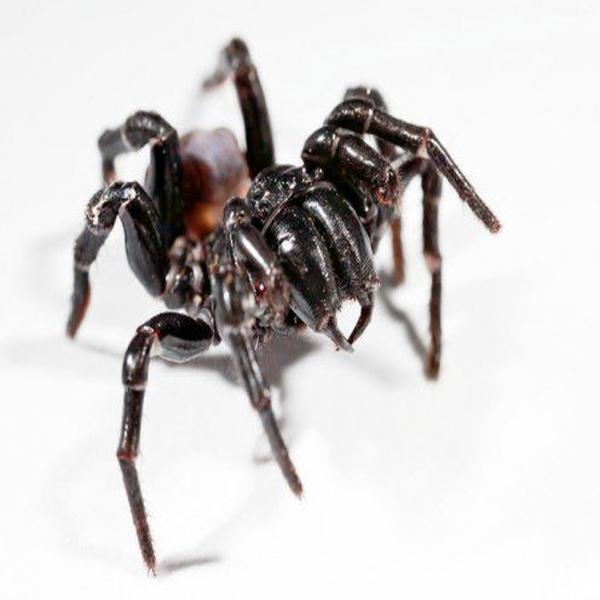Funnel Web Spider: (73, 36, 493, 568)
